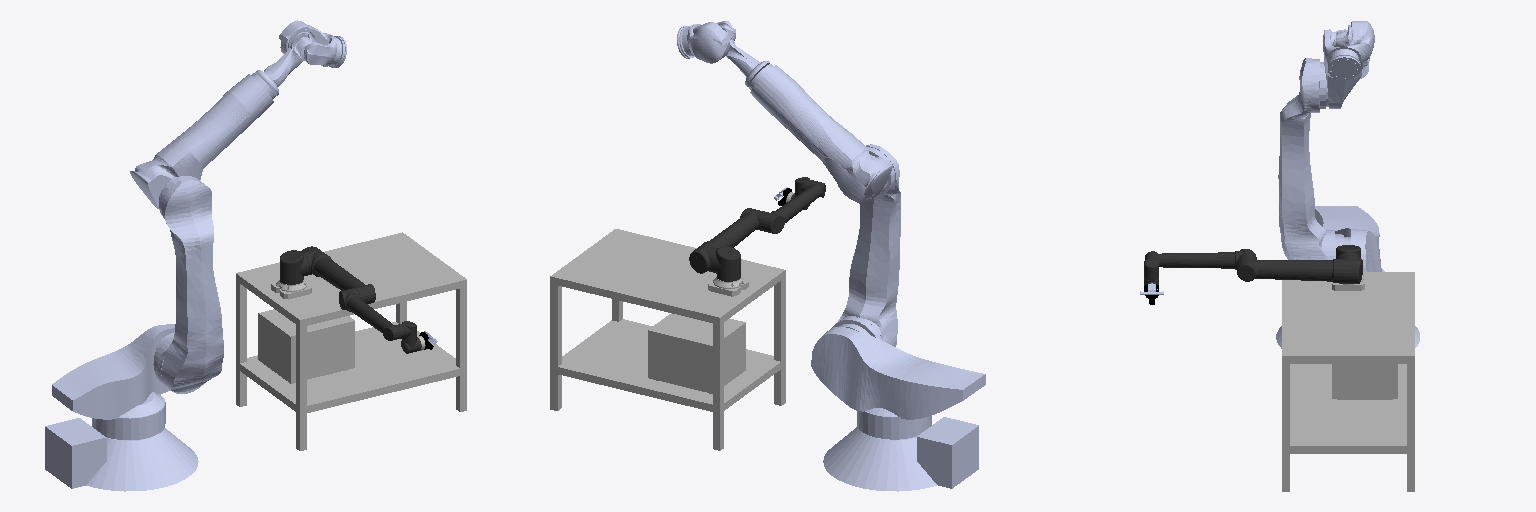
--- What the picture shows (computed from the rendered views, not written in the file) ---
The picture shows the robot from 3 angles, left to right: view 1: azimuth 30°, elevation 25°; view 2: azimuth 150°, elevation 25°; view 3: azimuth 270°, elevation 25°; orthographic projection.
Robot: dual_robots — 26 links, 25 joints (6 revolute, 6 continuous, 13 fixed); root link world; default pose: all joints at 0.
Visible links, largest first — view 1: table_link, link_2, link_1, base_link_quantec, link_3, link_5, upper_arm_link, link_4, forearm_link, shoulder_link; view 2: table_link, link_1, base_link_quantec, link_2, link_3, link_5, upper_arm_link, forearm_link, shoulder_link, link_4; view 3: table_link, link_2, upper_arm_link, link_1, forearm_link, link_5, link_3, link_6.
Boxes of the visible links, box(x1,y1,x2,y2) form: table_link: box(236, 232, 466, 450); link_2: box(153, 176, 223, 393); link_1: box(52, 324, 174, 439); base_link_quantec: box(45, 418, 198, 491); link_3: box(130, 73, 275, 209); link_5: box(279, 20, 341, 66); upper_arm_link: box(301, 246, 375, 303); link_4: box(255, 32, 315, 95); forearm_link: box(339, 288, 404, 340); shoulder_link: box(280, 250, 308, 284); table_link: box(550, 229, 785, 450); link_1: box(811, 327, 985, 439); base_link_quantec: box(823, 417, 978, 491); link_2: box(832, 144, 900, 346); link_3: box(749, 64, 892, 203); link_5: box(682, 21, 735, 63); upper_arm_link: box(689, 208, 764, 273); forearm_link: box(759, 180, 825, 233); shoulder_link: box(711, 247, 740, 281); link_4: box(723, 30, 769, 86); table_link: box(1282, 272, 1414, 491); link_2: box(1278, 58, 1347, 259); upper_arm_link: box(1237, 254, 1362, 283); link_1: box(1315, 206, 1384, 271); forearm_link: box(1144, 249, 1256, 269); link_5: box(1323, 21, 1374, 62); link_3: box(1324, 29, 1369, 108); link_6: box(1328, 54, 1360, 80).
Bounding box of the posed robot: 2.72 × 1.69 × 2.68 m (x, y, z).
18 mesh visuals loaded from 18 distinct referenced files (18 binary STL).

robot.urdf — dual_robots:
<?xml version="1.0" ?>
<!-- =================================================================================== -->
<!-- |    This document was autogenerated by xacro from [local-path]/.localgit/goldilocks_sensibility_ws/src/bdr11_description/urdf/bdr11.urdf.xacro | -->
<!-- |    EDITING THIS FILE BY HAND IS NOT RECOMMENDED                                 | -->
<!-- =================================================================================== -->
<robot name="dual_robots">
    <!-- Define the world link -->
    <link name="world" />
    <!--https://github.com/carlosjoserg/force-torque-sensor/tree/master/model-->
    <!-- Add feedback for camera-related joints -->
    <gazebo reference="rgbd_camera_joint">
        <provideFeedback>true</provideFeedback>
        <plugin name="gazebo_ros_control" filename="libgazebo_ros_control.so">
            <robotNamespace>/</robotNamespace>
        </plugin>
    </gazebo>
    <gazebo reference="rgbd_camera_optical_joint">
        <provideFeedback>true</provideFeedback>
    </gazebo>
    <gazebo reference="rgbd_camera_depth_joint">
        <provideFeedback>true</provideFeedback>
    </gazebo>
    <gazebo reference="rgbd_camera_depth_optical_joint">
        <provideFeedback>true</provideFeedback>
    </gazebo>
    <gazebo reference="rgbd_camera_rgb_joint">
        <provideFeedback>true</provideFeedback>
    </gazebo>
    <gazebo reference="rgbd_camera_rgb_optical_joint">
        <provideFeedback>true</provideFeedback>
    </gazebo>
    <gazebo reference="rgbd_camera_link">
        <!-- Depth (IR) -->
        <sensor name="rgbd_camera_frame_sensor" type="depth">
            <always_on>true</always_on>
            <update_rate>6.0</update_rate>
            <camera>
                <horizontal_fov>1.0122909661567112</horizontal_fov>
                <image>
                    <format>R8G8B8</format>
                    <width>800</width>
                    <height>600</height>
                </image>
                <clip>
                    <near>0.05</near>
                    <far>1.5</far>
                </clip>
            </camera>
            <plugin filename="libgazebo_ros_openni_kinect.so" name="rgbd_camera_frame_controller">
                <alwaysOn>true</alwaysOn>
                <updateRate>6.0</updateRate>
                <cameraName>rgbd_camera</cameraName>
                <imageTopicName>ir/image_raw</imageTopicName>
                <cameraInfoTopicName>ir/camera_info</cameraInfoTopicName>
                <depthImageTopicName>depth/image_raw</depthImageTopicName>
                <depthImageCameraInfoTopicName>depth/camera_info</depthImageCameraInfoTopicName>
                <pointCloudTopicName>depth/points</pointCloudTopicName>
                <frameName>rgbd_camera_optical_frame</frameName>
                <pointCloudCutoff>0.05</pointCloudCutoff>
                <pointCloudCutoffMax>5</pointCloudCutoffMax>
                <rangeMax>1.5</rangeMax>
            </plugin>
        </sensor>
        <!-- RGB -->
        <sensor name="rgbd_camera_frame_sensor" type="depth">
            <always_on>true</always_on>
            <update_rate>6.0</update_rate>
            <camera>
                <horizontal_fov>1.0122909661567112</horizontal_fov>
                <image>
                    <format>R8G8B8</format>
                    <width>800</width>
                    <height>600</height>
                </image>
                <clip>
                    <near>0.05</near>
                    <far>1.5</far>
                </clip>
            </camera>
            <plugin filename="libgazebo_ros_openni_kinect.so" name="rgbd_camera_frame_controller">
                <alwaysOn>true</alwaysOn>
                <updateRate>6.0</updateRate>
                <cameraName>rgbd_camera</cameraName>
                <imageTopicName>rgb/image_raw</imageTopicName>
                <cameraInfoTopicName>rgb/camera_info</cameraInfoTopicName>
                <pointCloudTopicName>rgb/points</pointCloudTopicName>
                <depthImageTopicName>depth/image_raw</depthImageTopicName>
                <depthImageCameraInfoTopicName>depth/camera_info</depthImageCameraInfoTopicName>
                <frameName>rgbd_camera_optical_frame</frameName>
                <pointCloudCutoff>0.05</pointCloudCutoff>
                <pointCloudCutoffMax>5</pointCloudCutoffMax>
                <rangeMax>1.5</rangeMax>
            </plugin>
        </sensor>
        <!-- Add feedback for camera link -->
        <provideFeedback>true</provideFeedback>
    </gazebo>
    <!-- call -->
    <!-- <xacro:ur10_robot/> -->
    <link name="table_link">
        <inertial>
            <origin rpy="0 0 0" xyz="0.503679778923471 0.436750246454337 0.533162239913515" />
            <mass value="164.427518164029" />
            <inertia ixx="17.5438109681455" ixy="1.00173029919582" ixz="-0.84554880731535" iyy="27.9962527469498" iyz="0.32261270489944" izz="25.3196927520228" />
        </inertial>
        <visual>
            <origin rpy="0 0 0" xyz="0 0 0" />
            <geometry>
                <mesh filename="package://ur10_description_v3/meshes/table_link.STL" />
            </geometry>
            <material name="">
                <color rgba="0.752941176470588 0.752941176470588 0.752941176470588 1" />
            </material>
        </visual>
        <collision>
            <origin rpy="0 0 0" xyz="0 0 0" />
            <geometry>
                <mesh filename="package://ur10_description_v3/meshes/table_link.STL" />
            </geometry>
        </collision>
    </link>
    <link name="adapter_link">
        <inertial>
            <origin rpy="0 0 0" xyz="0.00148762870939384 -5.55111512312578E-17 0.0184969952138566" />
            <mass value="1.3940393775037" />
            <inertia ixx="0.00480218257555222" ixy="-3.32761202584861E-19" ixz="-6.23136456619299E-09" iyy="0.00460995913579551" iyz="-9.9318015210222E-20" izz="0.00909416459764461" />
        </inertial>
        <visual>
            <origin rpy="0 0 0" xyz="0 0 0" />
            <geometry>
                <mesh filename="package://ur10_description_v3/meshes/adapter_link.STL" />
            </geometry>
            <material name="">
                <color rgba="0.752941176470588 0.752941176470588 0.752941176470588 1" />
            </material>
        </visual>
        <collision>
            <origin rpy="0 0 0" xyz="0 0 0" />
            <geometry>
                <mesh filename="package://ur10_description_v3/meshes/adapter_link.STL" />
            </geometry>
        </collision>
    </link>
    <joint name="adapter_joint" type="fixed">
        <origin rpy="0 0 0" xyz="0.17 0.4 0.9" />
        <parent link="table_link" />
        <child link="adapter_link" />
        <axis xyz="0 0 0" />
    </joint>
    <link name="base_link">
        <inertial>
            <origin rpy="0 0 0" xyz="0.0011845 -2.7253E-08 0.017325" />
            <mass value="0.86268" />
            <inertia ixx="0.0017501" ixy="8.3495E-09" ixz="9.0593E-06" iyy="0.0016637" iyz="-4.5806E-10" izz="0.0032119" />
        </inertial>
        <visual>
            <origin rpy="0 0 0" xyz="0 0 0" />
            <geometry>
                <mesh filename="package://ur10_description_v3/meshes/base_link.STL" />
            </geometry>
            <material name="">
                <color rgba="0.75294 0.75294 0.75294 1" />
            </material>
        </visual>
        <collision>
            <origin rpy="0 0 0" xyz="0 0 0" />
            <geometry>
                <mesh filename="package://ur10_description_v3/meshes/base_link.STL" />
            </geometry>
        </collision>
    </link>
    <joint name="base_joint" type="fixed">
        <origin rpy="0 0 0" xyz="0 0 0.037" />
        <parent link="adapter_link" />
        <child link="base_link" />
        <axis xyz="0 0 0" />
    </joint>
    <link name="shoulder_link">
        <inertial>
            <origin rpy="0 0 0" xyz="2.679E-07 0.010024 0.0831" />
            <mass value="7.778" />
            <inertia ixx="0.012906" ixy="1.6076E-08" ixz="-3.7079E-08" iyy="0.012039" iyz="-0.00053627" izz="0.010755" />
        </inertial>
        <visual>
            <origin rpy="0 0 0" xyz="0 0 0" />
            <geometry>
                <mesh filename="package://ur10_description_v3/meshes/shoulder_link.STL" />
            </geometry>
            <material name="">
                <color rgba="0.25098 0.25098 0.25098 1" />
            </material>
        </visual>
        <collision>
            <origin rpy="0 0 0" xyz="0 0 0" />
            <geometry>
                <mesh filename="package://ur10_description_v3/meshes/shoulder_link.STL" />
            </geometry>
        </collision>
    </link>
    <joint name="shoulder_pan_joint" type="revolute">
        <origin rpy="0 0 -1.57" xyz="0 0 0.038" />
        <parent link="base_link" />
        <child link="shoulder_link" />
        <axis xyz="0 0 1" />
        <limit effort="330" lower="-6.28" upper="6.28" velocity="120" />
    </joint>
    <link name="upper_arm_link">
        <inertial>
            <origin rpy="0 0 0" xyz="-0.25443 -2.027E-07 0.082537" />
            <mass value="12.93" />
            <inertia ixx="0.024456" ixy="3.1971E-08" ixz="0.0078193" iyy="0.52575" iyz="8.3512E-08" izz="0.52417" />
        </inertial>
        <visual>
            <origin rpy="0 0 0" xyz="0 0 0" />
            <geometry>
                <mesh filename="package://ur10_description_v3/meshes/upper_arm_link.STL" />
            </geometry>
            <material name="">
                <color rgba="0.25098 0.25098 0.25098 1" />
            </material>
        </visual>
        <collision>
            <origin rpy="0 0 0" xyz="0 0 0" />
            <geometry>
                <mesh filename="package://ur10_description_v3/meshes/upper_arm_link.STL" />
            </geometry>
        </collision>
    </link>
    <joint name="shoulder_lift_joint" type="revolute">
        <origin rpy="1.5707963267949 0.0240929901040578 3.14159265358979" xyz="0 0.0859989999999999 0.0882571802206784" />
        <parent link="shoulder_link" />
        <child link="upper_arm_link" />
        <axis xyz="0 0 1" />
        <limit effort="330" lower="-6.28" upper="6.28" velocity="120" />
    </joint>
    <link name="forearm_link">
        <inertial>
            <origin rpy="0 0 0" xyz="-0.24807 1.9251E-09 -0.034936" />
            <mass value="3.87" />
            <inertia ixx="0.0067905" ixy="5.4328E-08" ixz="-0.00025402" iyy="0.20899" iyz="7.4389E-09" izz="0.20875" />
        </inertial>
        <visual>
            <origin rpy="0 0 0" xyz="0 0 0" />
            <geometry>
                <mesh filename="package://ur10_description_v3/meshes/forearm_link.STL" />
            </geometry>
            <material name="">
                <color rgba="0.25098 0.25098 0.25098 1" />
            </material>
        </visual>
        <collision>
            <origin rpy="0 0 0" xyz="0 0 0" />
            <geometry>
                <mesh filename="package://ur10_description_v3/meshes/forearm_link.STL" />
            </geometry>
        </collision>
    </link>
    <joint name="elbow_joint" type="revolute">
        <origin rpy="0 0 0.0242666741712824" xyz="-0.612 0 0" />
        <parent link="upper_arm_link" />
        <child link="forearm_link" />
        <axis xyz="0 0 1" />
        <limit effort="150" lower="-3.14" upper="3.14" velocity="180" />
    </joint>
    <link name="wrist_1_link">
        <inertial>
            <origin rpy="0 0 0" xyz="8.3814E-09 -0.010045 0.046994" />
            <mass value="1.96" />
            <inertia ixx="0.0010747" ixy="-1.3405E-12" ixz="4.6386E-10" iyy="0.00088168" iyz="7.862E-05" izz="0.00098347" />
        </inertial>
        <visual>
            <origin rpy="0 0 0" xyz="0 0 0" />
            <geometry>
                <mesh filename="package://ur10_description_v3/meshes/wrist_1_link.STL" />
            </geometry>
            <material name="">
                <color rgba="0.25098 0.25098 0.25098 1" />
            </material>
        </visual>
        <collision>
            <origin rpy="0 0 0" xyz="0 0 0" />
            <geometry>
                <mesh filename="package://ur10_description_v3/meshes/wrist_1_link.STL" />
            </geometry>
        </collision>
    </link>
    <joint name="wrist_1_joint" type="revolute">
        <origin rpy="0 0 -0.000173684067224549" xyz="-0.5716 0 0.0220010000000001" />
        <parent link="forearm_link" />
        <child link="wrist_1_link" />
        <axis xyz="0 0 1" />
        <limit effort="56" lower="-6.28" upper="6.28" velocity="180" />
    </joint>
    <link name="wrist_2_link">
        <inertial>
            <origin rpy="0 0 0" xyz="-8.3814E-09 0.010045 0.046994" />
            <mass value="1.96" />
            <inertia ixx="0.0010747" ixy="-1.3405E-12" ixz="-4.6386E-10" iyy="0.00088168" iyz="-7.862E-05" izz="0.00098347" />
        </inertial>
        <visual>
            <origin rpy="0 0 0" xyz="0 0 0" />
            <geometry>
                <mesh filename="package://ur10_description_v3/meshes/wrist_2_link.STL" />
            </geometry>
            <material name="">
                <color rgba="0.25098 0.25098 0.25098 1" />
            </material>
        </visual>
        <collision>
            <origin rpy="0 0 0" xyz="0 0 0" />
            <geometry>
                <mesh filename="package://ur10_description_v3/meshes/wrist_2_link.STL" />
            </geometry>
        </collision>
    </link>
    <joint name="wrist_2_joint" type="revolute">
        <origin rpy="1.5707963267949 0 0" xyz="0 -0.0617000000000001 0.054" />
        <parent link="wrist_1_link" />
        <child link="wrist_2_link" />
        <axis xyz="0 0 1" />
        <limit effort="56" lower="-6.28" upper="6.28" velocity="180" />
    </joint>
    <link name="wrist_3_link">
        <inertial>
            <origin rpy="0 0 0" xyz="2.2204E-16 -1.1102E-16 0.015005" />
            <mass value="0.202" />
            <inertia ixx="0.00010845" ixy="-6.3527E-22" ixz="8.5217E-21" iyy="0.00010845" iyz="2.1272E-20" izz="0.0001885" />
        </inertial>
        <visual>
            <origin rpy="0 0 0" xyz="0 0 0" />
            <geometry>
                <mesh filename="package://ur10_description_v3/meshes/wrist_3_link.STL" />
            </geometry>
            <material name="">
                <color rgba="0.75294 0.75294 0.75294 1" />
            </material>
        </visual>
        <collision>
            <origin rpy="0 0 0" xyz="0 0 0" />
            <geometry>
                <mesh filename="package://ur10_description_v3/meshes/wrist_3_link.STL" />
            </geometry>
        </collision>
    </link>
    <joint name="wrist_3_joint" type="revolute">
        <origin rpy="-1.5707963267949 0.0141025375343068 0" xyz="0 0.0617 0.054" />
        <parent link="wrist_2_link" />
        <child link="wrist_3_link" />
        <axis xyz="0 0 1" />
        <limit effort="56" lower="-6.28" upper="6.28" velocity="180" />
    </joint>
    <link name="tool0_link">
        <inertial>
            <origin rpy="0 0 0" xyz="-9.51811385263568E-09 -0.00040829549117638 -0.063076624107084" />
            <mass value="0.159494248297753" />
            <inertia ixx="0.000196142213229152" ixy="-3.17147593634008E-12" ixz="-8.16590451397829E-11" iyy="0.000202558472496363" iyz="3.31143649078889E-05" izz="0.000103928487892553" />
        </inertial>
        <visual>
            <origin rpy="0 0 0" xyz="0 0 0" />
            <geometry>
                <mesh filename="package://ur10_description_v3/meshes/test_finger_link.STL" />
            </geometry>
            <material name="">
                <color rgba="0 0 0 1" />
            </material>
        </visual>
        <collision>
            <origin rpy="0 0 0" xyz="0 0 0" />
            <geometry>
                <mesh filename="package://ur10_description_v3/meshes/test_finger_link.STL" />
            </geometry>
        </collision>
    </link>
    <joint name="tool0" type="fixed">
        <origin rpy="0.785398163397435 0 0" xyz="0 -0.0486072989450782 0.0984743807368732" />
        <parent link="wrist_3_link" />
        <child link="tool0_link" />
        <axis xyz="0 0 0" />
    </joint>
    <link name="camera_link">
        <inertial>
            <origin rpy="0 0 0" xyz="-1.61524861117535E-05 -0.00212700504491092 -0.0193765848255853" />
            <mass value="0.0840231018507497" />
            <inertia ixx="8.83086020963579E-06" ixy="4.69402693871799E-10" ixz="-1.85931238714756E-08" iyy="0.00010709697994186" iyz="1.0714392504519E-06" izz="0.000107821135197006" />
        </inertial>
        <visual>
                <origin xyz="0 0 0" rpy="0 0 0" />
                <geometry>
                    <mesh filename="package://ur10_description_v3/meshes/camera_link.STL" />
                </geometry>
                <material name="">
                    <color rgba="0.792156862745098 0.819607843137255 0.933333333333333 1" />
                </material>
            </visual>
        <collision>
            <origin rpy="0 0 0" xyz="0 0 0" />
            <geometry>
                <mesh filename="package://ur10_description_v3/meshes/camera_link.STL" />
            </geometry>
        </collision>
    </link>
    <joint name="tool_camera" type="fixed">
        <origin rpy="0.856180071631976 0 0" xyz="0 0.0158483827537649 0.0919267022436815" />
        <parent link="wrist_3_link" />
        <child link="camera_link" />
        <axis xyz="0 0 0" />
    </joint>
    <!-- Forces the joint to send feedback  -->
    <gazebo reference="wrist_3_joint">
        <provideFeedback>true</provideFeedback>
    </gazebo>
    <!-- The ft_sensor plugin  -->
    <gazebo>
        <plugin filename="libgazebo_ros_ft_sensor.so" name="wrist_3_joint_ft_sensor">
            <updateRate>1000.0</updateRate>
            <topicName>/wrench</topicName>
            <jointName>wrist_3_joint</jointName>
            <noise>
                <type>gaussian</type>
                <mean>0.0</mean>
                <stddev>0.003</stddev>
                <!-- change this to simulate noise -->
            </noise>
        </plugin>
    </gazebo>
    <!-- frames in the center of the camera -->
    <joint name="rgbd_camera_joint" type="fixed">
        <origin rpy="0 0 3.14" xyz="0 0 0.005" />
        <parent link="camera_link" />
        <child link="rgbd_camera_link" />
    </joint>
    <link name="rgbd_camera_link">
        <inertial>
            <origin rpy="0 0 0" xyz="-0.00936000000 -0.00003000000 -0.00273000000" />
            <mass value="0.21970000000" />
            <inertia ixx="0.00000429247" ixy="0.00000000000" ixz="0.00000002565" iyy="0.00000008027" iyz="0.00000000000" izz="0.00000427339" />
        </inertial>
        <!-- <visual>
                <geometry>
                    <box size="0.025 0.1 0.025" />
                    <<mesh filename="package://"/> 
                </geometry>
                <material name="DarkGrey"/>
            </visual> -->
        <!-- <collision>
                <geometry>
                    <box size="0.025 0.1 0.025" />
                    <mesh filename="package://"/>
                </geometry>
            </collision> -->
    </link>
    <joint name="rgbd_camera_optical_joint" type="fixed">
        <origin rpy="0 0 0" xyz="0 0 0" />
        <parent link="rgbd_camera_link" />
        <child link="rgbd_camera_optical_frame" />
    </joint>
    <link name="rgbd_camera_optical_frame">
        <inertial>
            <origin rpy="0 0 0" xyz="0 0 0" />
            <mass value="0.001" />
            <inertia ixx="0.00001" ixy="0" ixz="0" iyy="0.00001" iyz="0" izz="0.00001" />
        </inertial>
    </link>
    <!-- Depth sensor frames -->
    <joint name="rgbd_camera_depth_joint" type="fixed">
        <origin rpy="1.57 -1.57 0" xyz="-0.025 0.0 0.0" />
        <!--origin xyz="0.0 0.049 0.0" rpy="0 0 0"-->
        <parent link="rgbd_camera_link" />
        <child link="rgbd_camera_depth_frame" />
    </joint>
    <link name="rgbd_camera_depth_frame">
        <inertial>
            <origin rpy="0 0 0" xyz="0 0 0" />
            <mass value="0.001" />
            <inertia ixx="0.00001" ixy="0" ixz="0" iyy="0.00001" iyz="0" izz="0.00001" />
        </inertial>
    </link>
    <joint name="rgbd_camera_depth_optical_joint" type="fixed">
        <origin rpy="-1.5707963267948966 0.0 -1.5707963267948966" xyz="0 0 0" />
        <!-- -90 deg_to_rad - x&z -->
        <parent link="rgbd_camera_depth_frame" />
        <child link="rgbd_camera_depth_optical_frame" />
    </joint>
    <link name="rgbd_camera_depth_optical_frame">
        <inertial>
            <origin rpy="0 0 0" xyz="0 0 0" />
            <mass value="0.001" />
            <inertia ixx="0.00001" ixy="0" ixz="0" iyy="0.00001" iyz="0" izz="0.00001" />
        </inertial>
    </link>
    <!-- RGB sensor frames -->
    <joint name="rgbd_camera_rgb_joint" type="fixed">
        <origin rpy="1.57 -1.57 0" xyz="0 0 0" />
        <parent link="rgbd_camera_link" />
        <child link="rgbd_camera_rgb_frame" />
    </joint>
    <link name="rgbd_camera_rgb_frame">
        <inertial>
            <origin rpy="0 0 0" xyz="0 0 0" />
            <mass value="0.001" />
            <inertia ixx="0.00001" ixy="0" ixz="0" iyy="0.00001" iyz="0" izz="0.00001" />
        </inertial>
    </link>
    <joint name="rgbd_camera_rgb_optical_joint" type="fixed">
        <origin rpy="-1.5707963267948966 0.0 -1.5707963267948966" xyz="0 0 0" />
        <!-- -90 deg_to_rad - x&z -->
        <parent link="rgbd_camera_rgb_frame" />
        <child link="rgbd_camera_rgb_optical_frame" />
    </joint>
    <link name="rgbd_camera_rgb_optical_frame">
        <inertial>
            <origin rpy="0 0 0" xyz="0 0 0" />
            <mass value="0.001" />
            <inertia ixx="0.00001" ixy="0" ixz="0" iyy="0.00001" iyz="0" izz="0.00001" />
        </inertial>
    </link>
    <!-- ROS-Industrial 'base' frame: base_link to UR 'Base' Coordinates transform -->
    <link name="base" />
    <joint name="base_link-base_fixed_joint" type="fixed">
        <!-- Note the rotation over Z of pi radians: as base_link is REP-103
            aligned (ie: has X+ forward, Y+ left and Z+ up), this is needed
            to correctly align 'base' with the 'Base' coordinate system of
            the UR controller.
        -->
        <origin rpy="0 0 3.14" xyz="0 0 0" />
        <parent link="base_link" />
        <child link="base" />
    </joint>
    <joint name="ur10_robot_joint" type="fixed">
        <parent link="world" />
        <child link="table_link" />
        <!-- ${ur10_ns} -->
        <origin rpy="0 0 0" xyz="0 0 0" />
    </joint>
    <!-- call -->
    <!-- <xacro:moveit_quantec/> -->
    <link name="base_link_quantec">
        <inertial>
            <origin rpy="0 0 0" xyz="-0.0810107614623872 1.69806255825153E-07 0.10599645436339" />
            <mass value="97.9298238151877" />
            <inertia ixx="3.12727259199142" ixy="2.14569120944394E-06" ixz="0.467210023955441" iyy="5.52628001885015" iyz="-1.97817775090254E-06" izz="7.58545932293491" />
        </inertial>
        <visual>
            <origin rpy="0 0 0" xyz="0 0 0" />
            <geometry>
                <mesh filename="package://moveit_quantec/meshes/base_link.STL" />
            </geometry>
            <material name="">
                <color rgba="0.792156862745098 0.819607843137255 0.933333333333333 1" />
            </material>
        </visual>
        <collision>
            <origin rpy="0 0 0" xyz="0 0 0" />
            <geometry>
                <mesh filename="package://moveit_quantec/meshes/base_link.STL" />
            </geometry>
        </collision>
    </link>
    <link name="link_1">
        <inertial>
            <origin rpy="0 0 0" xyz="-0.0084665 0.019734 0.25939" />
            <mass value="94.945" />
            <inertia ixx="2.6472" ixy="-0.62895" ixz="-0.35979" iyy="6.3022" iyz="-0.17581" izz="5.5156" />
        </inertial>
        <visual>
            <origin rpy="0 0 0" xyz="0 0 0" />
            <geometry>
                <mesh filename="package://moveit_quantec/meshes/link_1.STL" />
            </geometry>
            <material name="">
                <color rgba="0.79216 0.81961 0.93333 1" />
            </material>
        </visual>
        <collision>
            <origin rpy="0 0 0" xyz="0 0 0" />
            <geometry>
                <mesh filename="package://moveit_quantec/meshes/link_1.STL" />
            </geometry>
        </collision>
    </link>
    <joint name="joint_1" type="continuous">
        <origin rpy="1.5708 0.014047 0" xyz="0 -0.235 0" />
        <parent link="base_link_quantec" />
        <child link="link_1" />
        <axis xyz="0 0 1" />
    </joint>
    <link name="link_2">
        <inertial>
            <origin rpy="0 0 0" xyz="0.0015545 -0.23159 0.40897" />
            <mass value="82.176" />
            <inertia ixx="12.398" ixy="-9.2862E-05" ixz="0.082654" iyy="12.541" iyz="0.043185" izz="0.91874" />
        </inertial>
        <visual>
            <origin rpy="0 0 0" xyz="0 0 0" />
            <geometry>
                <mesh filename="package://moveit_quantec/meshes/link_2.STL" />
            </geometry>
            <material name="">
                <color rgba="0.79216 0.81961 0.93333 1" />
            </material>
        </visual>
        <collision>
            <origin rpy="0 0 0" xyz="0 0 0" />
            <geometry>
                <mesh filename="package://moveit_quantec/meshes/link_2.STL" />
            </geometry>
        </collision>
    </link>
    <joint name="joint_2" type="continuous">
        <origin rpy="0 -0.0391 0" xyz="0.33 0 0.41772" />
        <parent link="link_1" />
        <child link="link_2" />
        <axis xyz="0 1 0" />
    </joint>
    <link name="link_3">
        <inertial>
            <origin rpy="0 0 0" xyz="0.35711 -0.015416 0.10193" />
            <mass value="47.124" />
            <inertia ixx="0.41866" ixy="-0.086691" ixz="-0.15996" iyy="3.9994" iyz="-0.042155" izz="3.9284" />
        </inertial>
        <visual>
            <origin rpy="0 0 0" xyz="0 0 0" />
            <geometry>
                <mesh filename="package://moveit_quantec/meshes/link_3.STL" />
            </geometry>
            <material name="">
                <color rgba="0.79216 0.81961 0.93333 1" />
            </material>
        </visual>
        <collision>
            <origin rpy="0 0 0" xyz="0 0 0" />
            <geometry>
                <mesh filename="package://moveit_quantec/meshes/link_3.STL" />
            </geometry>
        </collision>
    </link>
    <joint name="joint_3" type="continuous">
        <origin rpy="0 -0.52738 0" xyz="0 0 1.15" />
        <parent link="link_2" />
        <child link="link_3" />
        <axis xyz="0 1 0" />
    </joint>
    <link name="link_4">
        <inertial>
            <origin rpy="0 0 0" xyz="0.27937 0.0063685 -0.00017456" />
            <mass value="4.6744" />
            <inertia ixx="0.011503" ixy="-0.0037737" ixz="7.4652E-05" iyy="0.085293" iyz="-0.00012925" izz="0.085285" />
        </inertial>
        <visual>
            <origin rpy="0 0 0" xyz="0 0 0" />
            <geometry>
                <mesh filename="package://moveit_quantec/meshes/link_4.STL" />
            </geometry>
            <material name="">
                <color rgba="0.79216 0.81961 0.93333 1" />
            </material>
        </visual>
        <collision>
            <origin rpy="0 0 0" xyz="0 0 0" />
            <geometry>
                <mesh filename="package://moveit_quantec/meshes/link_4.STL" />
            </geometry>
        </collision>
    </link>
    <joint name="joint_4" type="continuous">
        <origin rpy="0.037095 0 0" xyz="0.78147 -0.0086752 0.115" />
        <parent link="link_3" />
        <child link="link_4" />
        <axis xyz="1 0 0" />
    </joint>
    <link name="link_5">
        <inertial>
            <origin rpy="0 0 0" xyz="0.046286 0.05529 7.0521E-05" />
            <mass value="8.3467" />
            <inertia ixx="0.035209" ixy="0.0040294" ixz="-2.9627E-05" iyy="0.059372" iyz="-0.00013764" izz="0.046632" />
        </inertial>
        <visual>
            <origin rpy="0 0 0" xyz="0 0 0" />
            <geometry>
                <mesh filename="package://moveit_quantec/meshes/link_5.STL" />
            </geometry>
            <material name="">
                <color rgba="0.79216 0.81961 0.93333 1" />
            </material>
        </visual>
        <collision>
            <origin rpy="0 0 0" xyz="0 0 0" />
            <geometry>
                <mesh filename="package://moveit_quantec/meshes/link_5.STL" />
            </geometry>
        </collision>
    </link>
    <joint name="joint_5" type="continuous">
        <origin rpy="0 0.9269 0" xyz="0.44853 0 0" />
        <parent link="link_4" />
        <child link="link_5" />
        <axis xyz="0 1 0" />
    </joint>
    <link name="link_6">
        <inertial>
            <origin rpy="0 0 0" xyz="0.021186 9.6657E-07 -3.3846E-07" />
            <mass value="0.97276" />
            <inertia ixx="0.0044336" ixy="-1.5389E-09" ixz="6.5721E-10" iyy="0.0023152" iyz="-1.9424E-09" izz="0.0023149" />
        </inertial>
        <visual>
            <origin rpy="0 0 0" xyz="0 0 0" />
            <geometry>
                <mesh filename="package://moveit_quantec/meshes/link_6.STL" />
            </geometry>
            <material name="">
                <color rgba="0.79216 0.81961 0.93333 1" />
            </material>
        </visual>
        <collision>
            <origin rpy="0 0 0" xyz="0 0 0" />
            <geometry>
                <mesh filename="package://moveit_quantec/meshes/link_6.STL" />
            </geometry>
        </collision>
    </link>
    <joint name="joint_6" type="continuous">
        <origin rpy="-2.218 0 0" xyz="0.20228 1.3733E-05 0" />
        <parent link="link_5" />
        <child link="link_6" />
        <axis xyz="1 0 0" />
    </joint>
    <joint name="quantec_robot_joint" type="fixed">
        <parent link="world" />
        <child link="base_link_quantec" />
        <!-- ${quantec_ns} -->
        <origin rpy="-1.57 0 0" xyz="-1 0.4 0" />
        <!-- Adjust xyz for the desired position -->
    </joint>
    <transmission name="trans_shoulder_pan_joint">
        <type>transmission_interface/SimpleTransmission</type>
        <joint name="shoulder_pan_joint">
            <hardwareInterface>hardware_interface/PositionJointInterface</hardwareInterface>
        </joint>
        <actuator name="shoulder_pan_joint_motor">
            <hardwareInterface>hardware_interface/PositionJointInterface</hardwareInterface>
            <mechanicalReduction>1</mechanicalReduction>
        </actuator>
    </transmission>
    <transmission name="trans_shoulder_lift_joint">
        <type>transmission_interface/SimpleTransmission</type>
        <joint name="shoulder_lift_joint">
            <hardwareInterface>hardware_interface/PositionJointInterface</hardwareInterface>
        </joint>
        <actuator name="shoulder_lift_joint_motor">
            <hardwareInterface>hardware_interface/PositionJointInterface</hardwareInterface>
            <mechanicalReduction>1</mechanicalReduction>
        </actuator>
    </transmission>
    <transmission name="trans_elbow_joint">
        <type>transmission_interface/SimpleTransmission</type>
        <joint name="elbow_joint">
            <hardwareInterface>hardware_interface/PositionJointInterface</hardwareInterface>
        </joint>
        <actuator name="elbow_joint_motor">
            <hardwareInterface>hardware_interface/PositionJointInterface</hardwareInterface>
            <mechanicalReduction>1</mechanicalReduction>
        </actuator>
    </transmission>
    <transmission name="trans_wrist_1_joint">
        <type>transmission_interface/SimpleTransmission</type>
        <joint name="wrist_1_joint">
            <hardwareInterface>hardware_interface/PositionJointInterface</hardwareInterface>
        </joint>
        <actuator name="wrist_1_joint_motor">
            <hardwareInterface>hardware_interface/PositionJointInterface</hardwareInterface>
            <mechanicalReduction>1</mechanicalReduction>
        </actuator>
    </transmission>
    <transmission name="trans_wrist_2_joint">
        <type>transmission_interface/SimpleTransmission</type>
        <joint name="wrist_2_joint">
            <hardwareInterface>hardware_interface/PositionJointInterface</hardwareInterface>
        </joint>
        <actuator name="wrist_2_joint_motor">
            <hardwareInterface>hardware_interface/PositionJointInterface</hardwareInterface>
            <mechanicalReduction>1</mechanicalReduction>
        </actuator>
    </transmission>
    <transmission name="trans_wrist_3_joint">
        <type>transmission_interface/SimpleTransmission</type>
        <joint name="wrist_3_joint">
            <hardwareInterface>hardware_interface/PositionJointInterface</hardwareInterface>
        </joint>
        <actuator name="wrist_3_joint_motor">
            <hardwareInterface>hardware_interface/PositionJointInterface</hardwareInterface>
            <mechanicalReduction>1</mechanicalReduction>
        </actuator>
    </transmission>
    <transmission name="trans_joint_1">
        <type>transmission_interface/SimpleTransmission</type>
        <joint name="joint_1">
            <hardwareInterface>hardware_interface/PositionJointInterface</hardwareInterface>
        </joint>
        <actuator name="joint_1_motor">
            <hardwareInterface>hardware_interface/PositionJointInterface</hardwareInterface>
            <mechanicalReduction>1</mechanicalReduction>
        </actuator>
    </transmission>
    <transmission name="trans_joint_2">
        <type>transmission_interface/SimpleTransmission</type>
        <joint name="joint_2">
            <hardwareInterface>hardware_interface/PositionJointInterface</hardwareInterface>
        </joint>
        <actuator name="joint_2_motor">
            <hardwareInterface>hardware_interface/PositionJointInterface</hardwareInterface>
            <mechanicalReduction>1</mechanicalReduction>
        </actuator>
    </transmission>
    <transmission name="trans_joint_3">
        <type>transmission_interface/SimpleTransmission</type>
        <joint name="joint_3">
            <hardwareInterface>hardware_interface/PositionJointInterface</hardwareInterface>
        </joint>
        <actuator name="joint_3_motor">
            <hardwareInterface>hardware_interface/PositionJointInterface</hardwareInterface>
            <mechanicalReduction>1</mechanicalReduction>
        </actuator>
    </transmission>
    <transmission name="trans_joint_4">
        <type>transmission_interface/SimpleTransmission</type>
        <joint name="joint_4">
            <hardwareInterface>hardware_interface/PositionJointInterface</hardwareInterface>
        </joint>
        <actuator name="joint_4_motor">
            <hardwareInterface>hardware_interface/PositionJointInterface</hardwareInterface>
            <mechanicalReduction>1</mechanicalReduction>
        </actuator>
    </transmission>
    <transmission name="trans_joint_5">
        <type>transmission_interface/SimpleTransmission</type>
        <joint name="joint_5">
            <hardwareInterface>hardware_interface/PositionJointInterface</hardwareInterface>
        </joint>
        <actuator name="joint_5_motor">
            <hardwareInterface>hardware_interface/PositionJointInterface</hardwareInterface>
            <mechanicalReduction>1</mechanicalReduction>
        </actuator>
    </transmission>
    <transmission name="trans_joint_6">
        <type>transmission_interface/SimpleTransmission</type>
        <joint name="joint_6">
            <hardwareInterface>hardware_interface/PositionJointInterface</hardwareInterface>
        </joint>
        <actuator name="joint_6_motor">
            <hardwareInterface>hardware_interface/PositionJointInterface</hardwareInterface>
            <mechanicalReduction>1</mechanicalReduction>
        </actuator>
    </transmission>

    <!-- controller plugins & configuration -->
    <gazebo>
        <plugin filename="libgazebo_ros_control.so" name="gazebo_ros_control">
        </plugin>
    </gazebo>

    <gazebo>
        <plugin name="joint_state_publisher" filename="libgazebo_ros_joint_state_publisher.so">
            <jointName> 
                shoulder_pan_joint,
                shoulder_lift_joint,
                elbow_joint,
                wrist_1_joint,
                wrist_2_joint,
                wrist_3_joint,
                joint_1,
                joint_2,
                joint_3,
                joint_4,
                joint_5,
                joint_6
            </jointName>
            <updateRate>10</updateRate>
        </plugin>
    </gazebo>
    
</robot>
